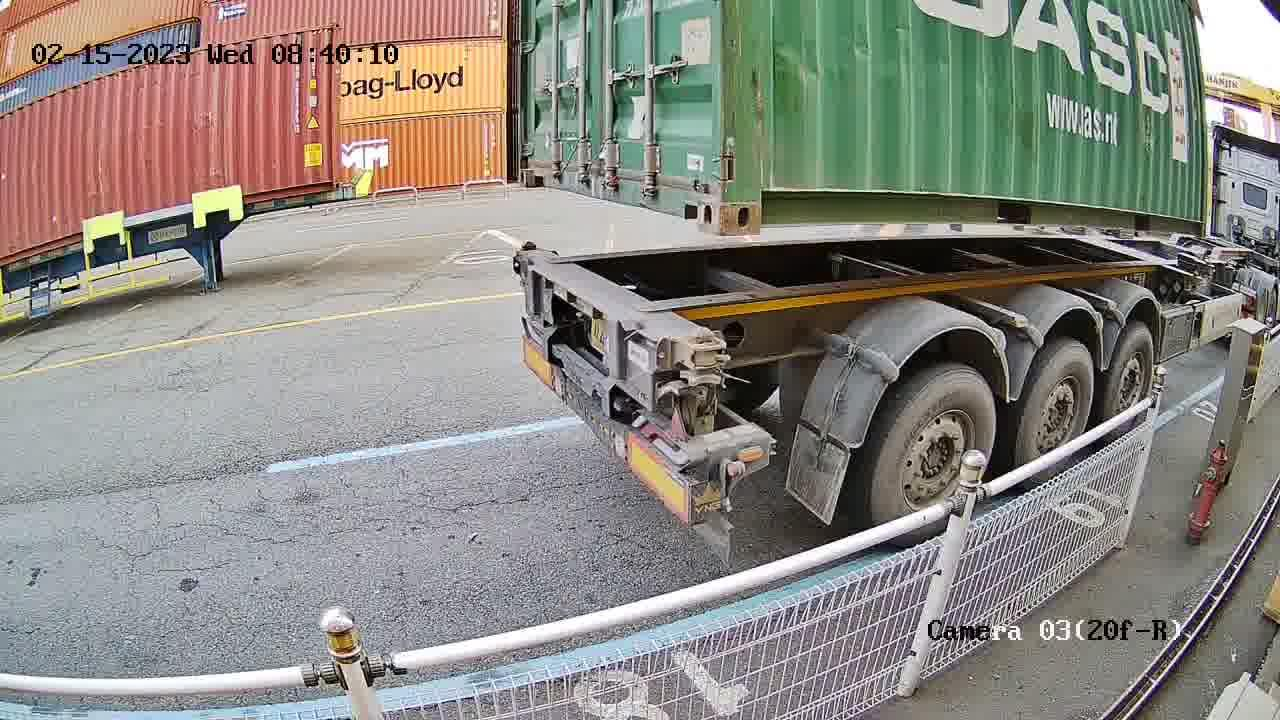Chassis: (518, 249, 701, 416)
Cone: (678, 324, 728, 393), (512, 238, 541, 273)
Hole_L: (724, 156, 812, 235), (518, 134, 558, 188)
Hole_R: (657, 145, 723, 230)
Tire: (873, 371, 997, 522), (1018, 349, 1096, 464), (1105, 327, 1157, 415)
